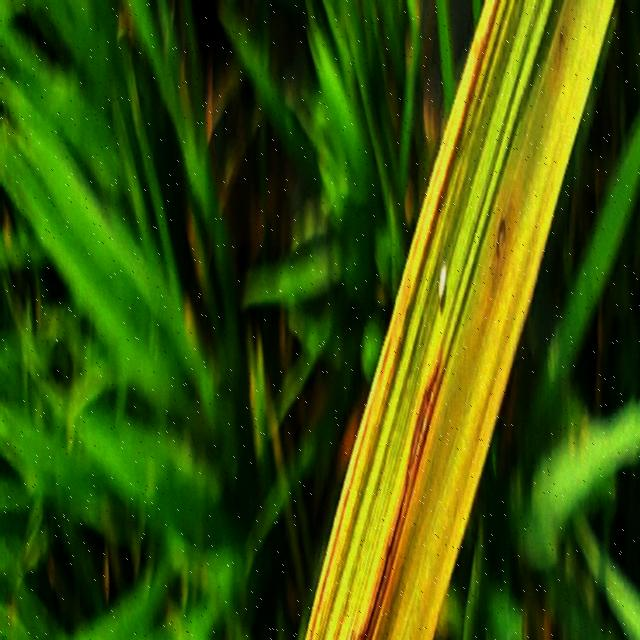LEAF BLAST: (345, 356, 442, 640)
